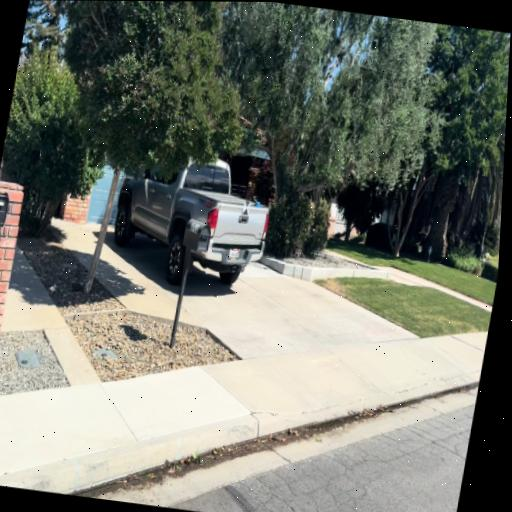target1: (242, 201, 251, 215)
